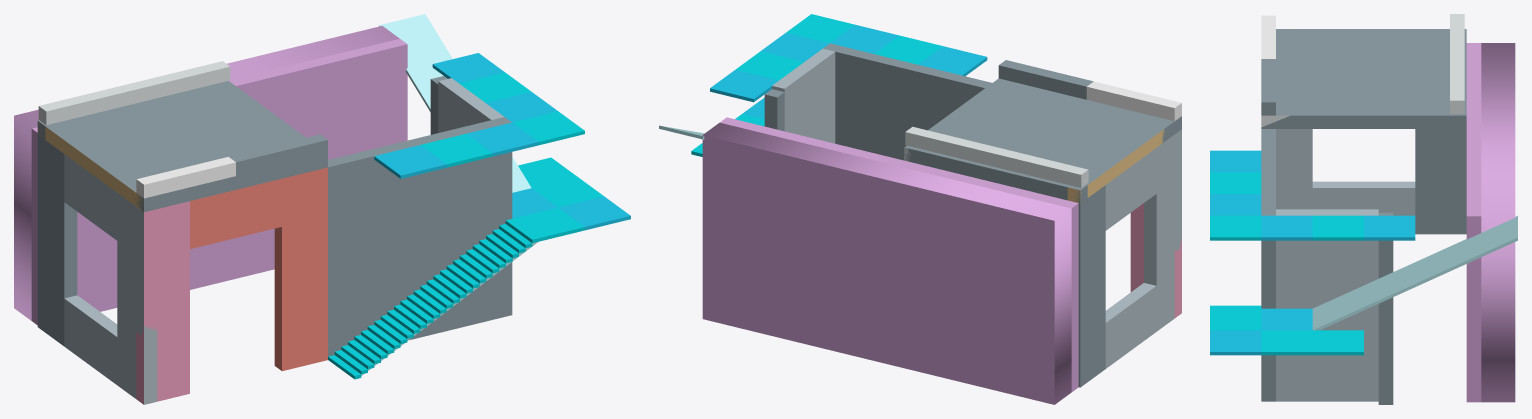
File: boxhouse9.glb
3 renders of one model, left to right at view 1: azimuth 30°, elevation 25°; view 2: azimuth 150°, elevation 25°; view 3: azimuth 270°, elevation 25°, orthographic. The views are drawn at different scales.
Parts seen in each view (by area): view 1: group1480709983, group1958601379, group760811509, group1196209601, group146419227, group386572424, group2122464268, group1784970684, group1188890994, group1183719487, group634192610, group1470821620 (+4 smaller); view 2: group1480709983, group1196209601, group146419227, group1958601379, group386572424, group634192610, group1188890994, group2096514362, group1470821620, group1028035001, group760811509, group646665547 (+2 smaller); view 3: group146419227, group1480709983, group634192610, group1196209601, group386572424, group1183719487, group1784970684, group1958601379, group1775516945, group1188890994, group980411784, group1028035001 (+1 smaller).
Boxes of the visible parts, x1,y1,x2,y2 form: group1480709983: (14,26,407,324); group1958601379: (328,117,512,356); group760811509: (136,167,327,404); group1196209601: (37,135,157,404); group146419227: (46,81,327,212); group386572424: (374,53,584,178); group2122464268: (328,219,538,379); group1784970684: (512,177,630,241); group1188890994: (38,61,230,125); group1183719487: (379,14,531,192); group634192610: (438,78,504,132); group1470821620: (136,157,235,198); group1480709983: (702,117,1078,404); group1196209601: (1078,129,1181,387); group146419227: (904,78,1181,203); group1958601379: (823,43,991,160); group386572424: (710,14,987,102); group634192610: (772,48,835,143); group1188890994: (905,126,1088,187); group2096514362: (904,148,1087,203); group1470821620: (1086,81,1181,121); group1028035001: (998,60,1093,99); group760811509: (1130,203,1181,318); group646665547: (1067,129,1166,202); group146419227: (1261,29,1466,128); group1480709983: (1466,43,1515,402); group634192610: (1276,209,1378,401); group1196209601: (1276,129,1466,234); group386572424: (1210,150,1415,240); group1183719487: (1312,216,1517,330); group1784970684: (1210,308,1312,355); group1958601379: (1261,129,1275,401); group1775516945: (1378,212,1393,404); group1188890994: (1450,14,1464,113); group980411784: (1312,330,1363,355); group1028035001: (1261,59,1275,115).
Bounding box in the file's own units: 2.8 × 1.31 × 1.68.
